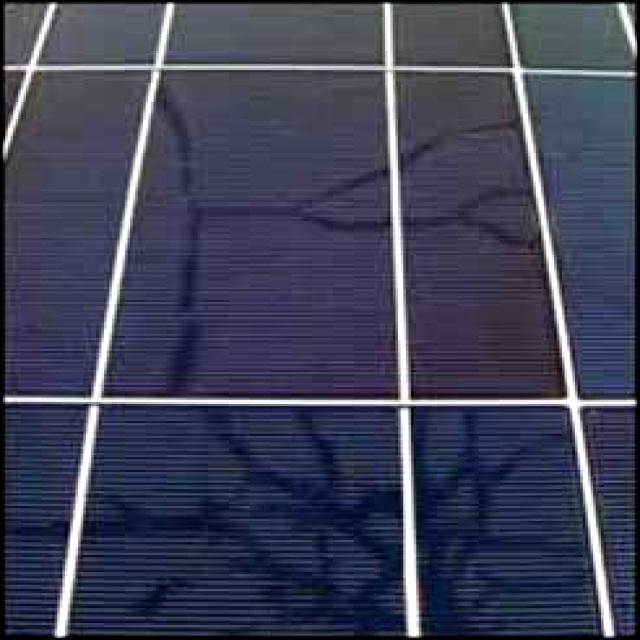shadow: (87, 398, 586, 640), (140, 132, 387, 375), (396, 84, 522, 290)
